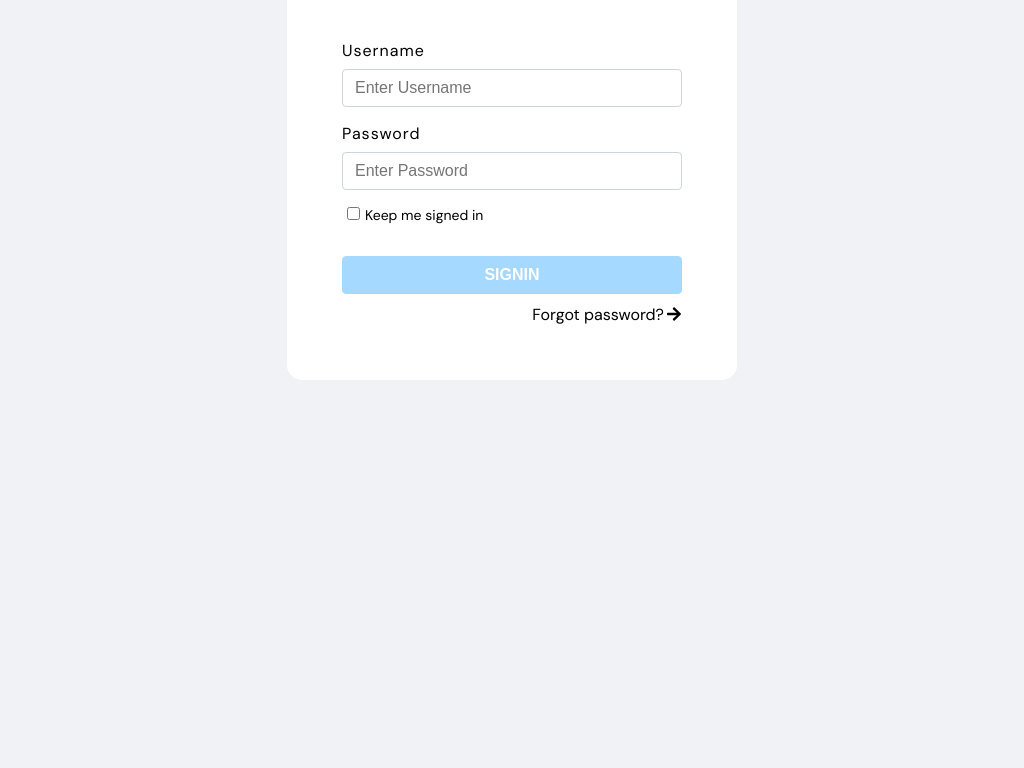
Test: Login › Button › should be enabled when input values are present
Type "Manny" into the field labelled "Username" at (512, 88), box [342,69,682,107]
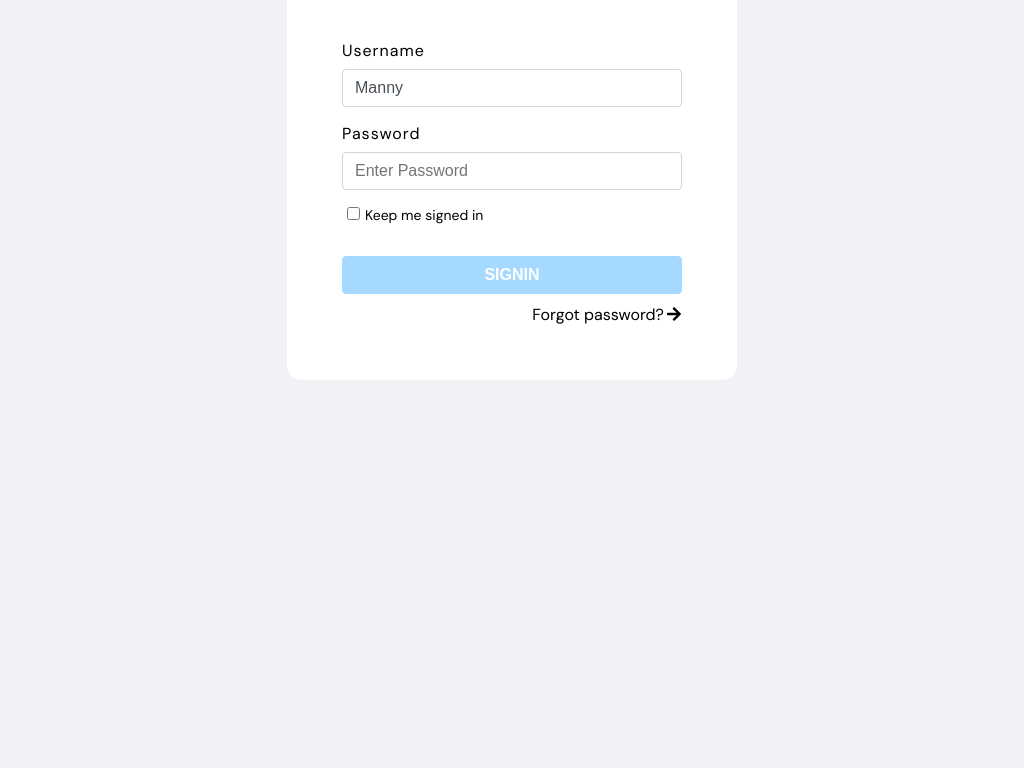
Type "test" into the password field labelled "Password" at (512, 171), box [342,152,682,190]
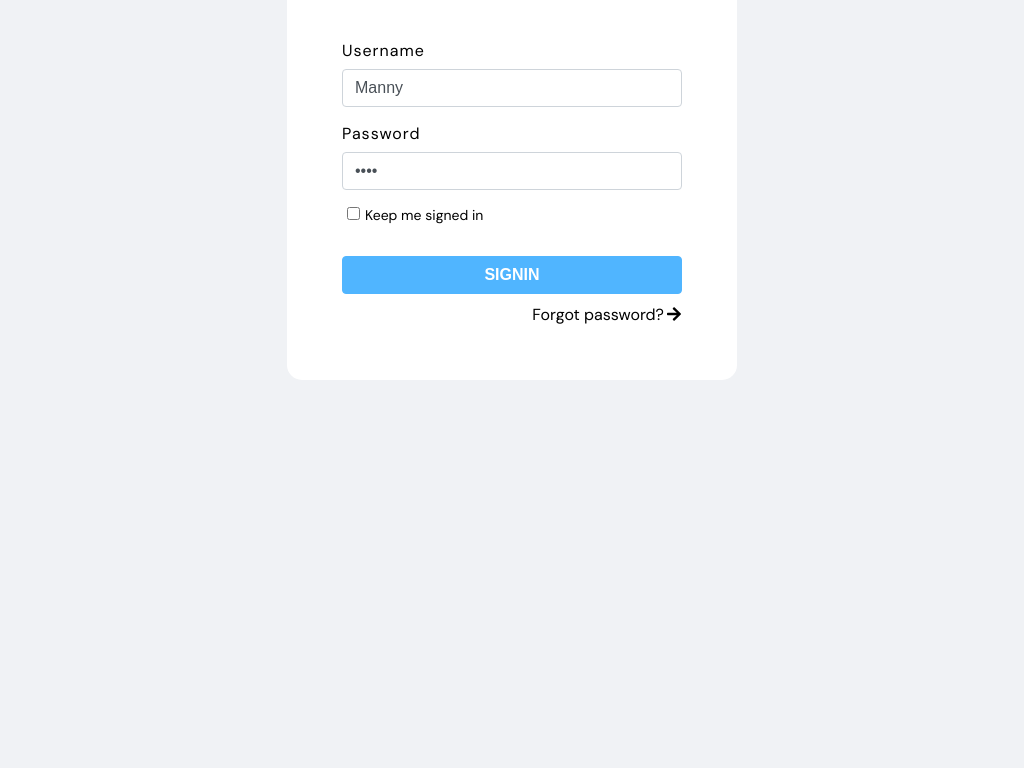
Result: the button is enabled at [342,256,682,294]
